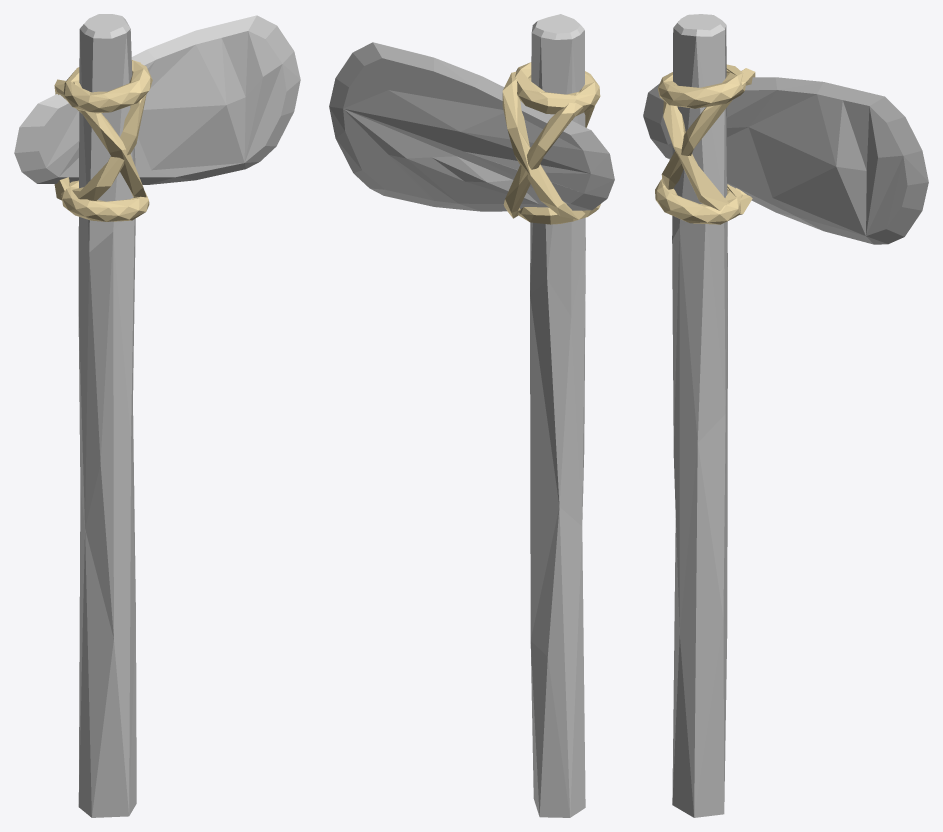
File: Ono.fbx
3 views of the same model, side by side, from view 1: azimuth 30°, elevation 25°; view 2: azimuth 150°, elevation 25°; view 3: azimuth 330°, elevation 25° (orthographic).
Parts seen in each view (by area): view 1: 円柱, 平面, ベジエ円.003; view 2: 円柱, 平面, ベジエ円.003; view 3: 円柱, 平面, ベジエ円.003.
Boxes of the visible parts, bbox=[...] form: 円柱: bbox=[78, 14, 136, 817]; 平面: bbox=[14, 15, 300, 184]; ベジエ円.003: bbox=[54, 60, 152, 221]; 円柱: bbox=[530, 14, 585, 817]; 平面: bbox=[329, 42, 614, 211]; ベジエ円.003: bbox=[502, 62, 600, 224]; 円柱: bbox=[672, 14, 727, 817]; 平面: bbox=[643, 77, 928, 244]; ベジエ円.003: bbox=[655, 64, 755, 224].
Size of the model in its own units: 456 by 1196 by 150.
